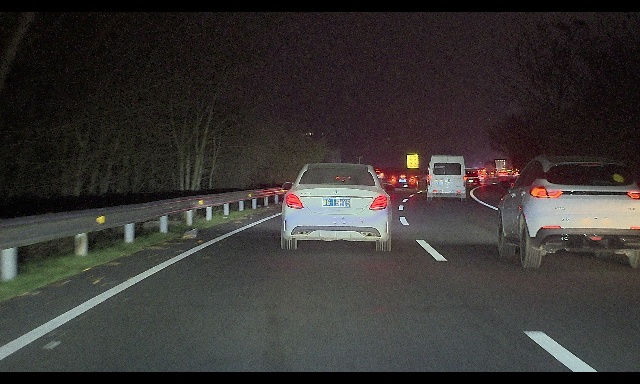car: (498, 154, 640, 269), (281, 162, 395, 251), (424, 155, 466, 202), (390, 172, 418, 193), (463, 173, 480, 185), (370, 169, 384, 180), (472, 171, 485, 182), (498, 171, 508, 177)
truck: (484, 161, 496, 177), (494, 160, 505, 174)
